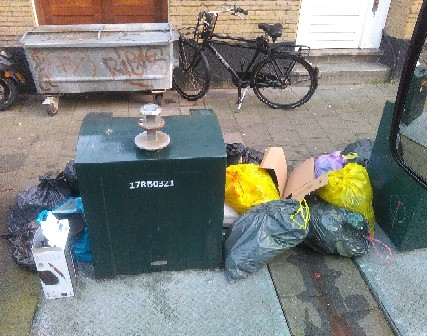Container: (85, 111, 224, 281)
Rest: (16, 185, 89, 300), (247, 203, 302, 278), (316, 148, 378, 207), (309, 202, 368, 253), (237, 156, 285, 213)
